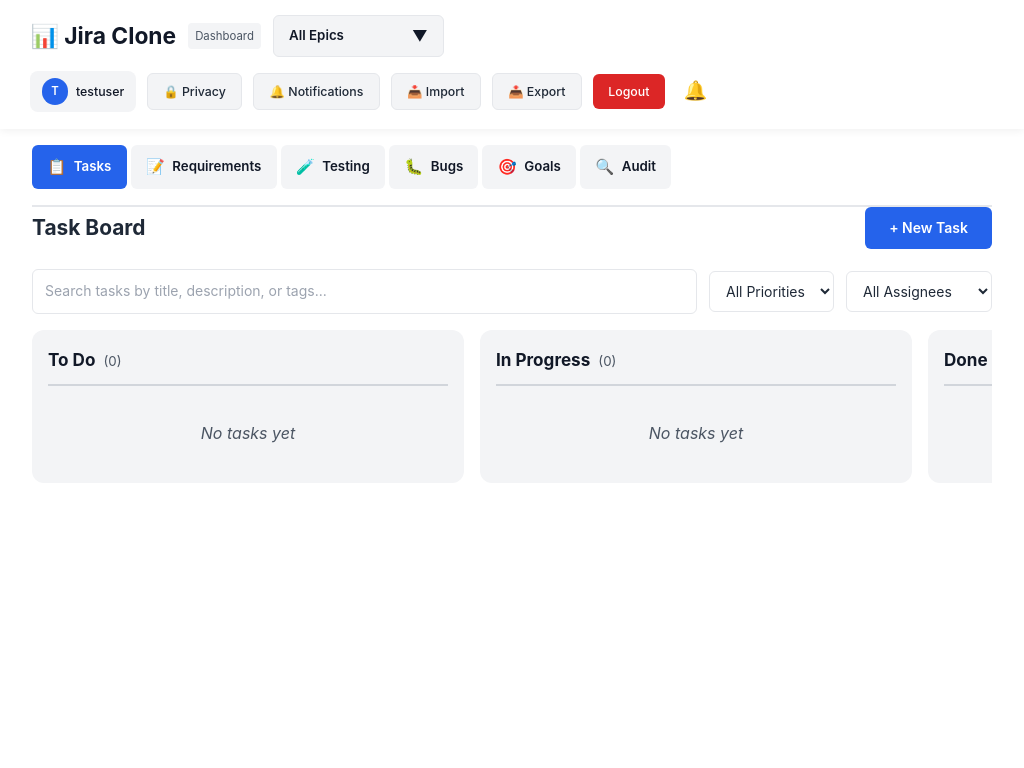
Test: DashboardLayout › Task Management › should open New Task modal
The width and height of the screenshot is (1024, 768).
Step 1. Click the button "+ New Task" → click(929, 228), box [865,207,992,249]
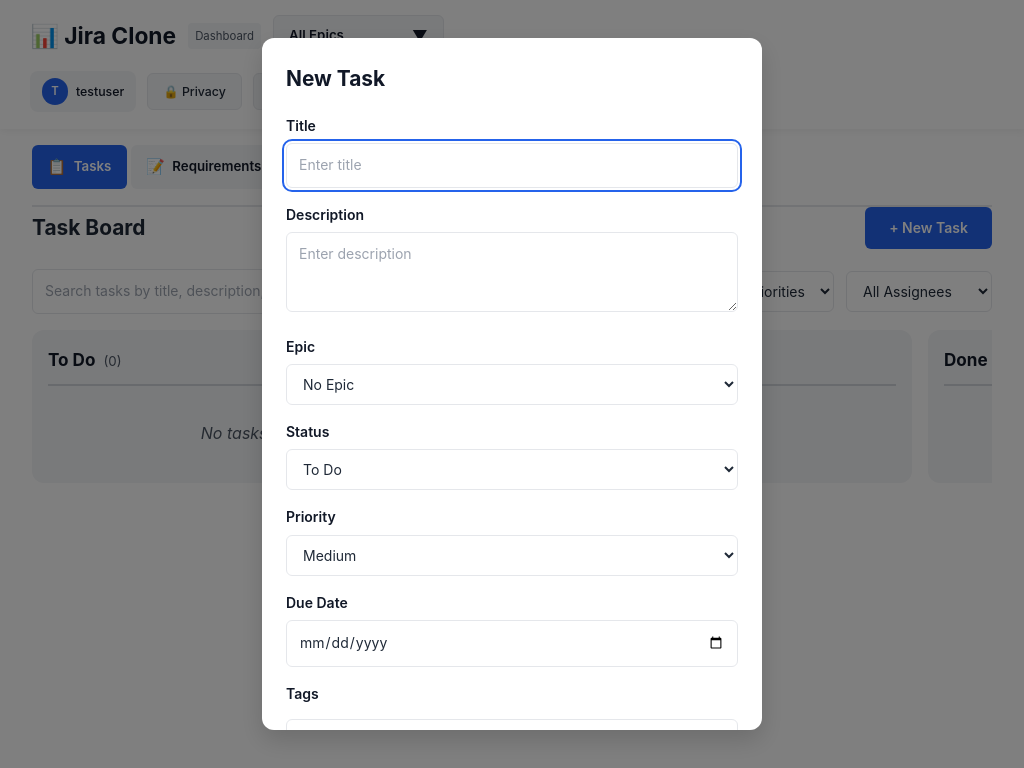
Now the heading "New Task" is shown, box [286,66,385,91]
